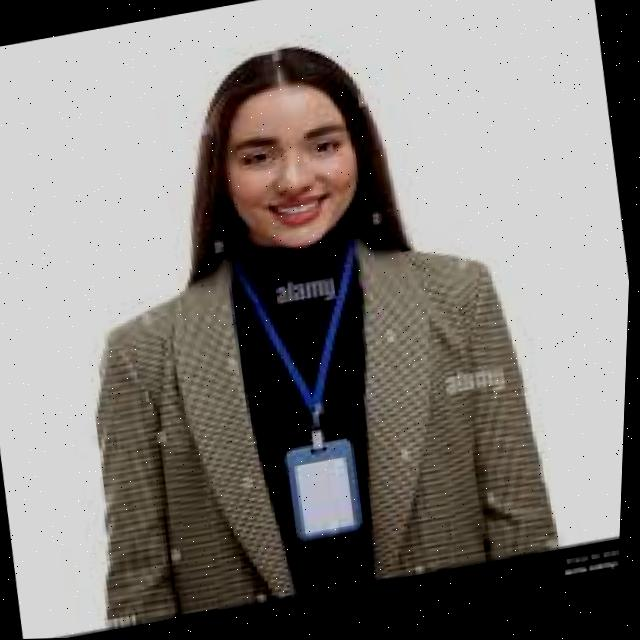id_card: (205, 234, 418, 555)
